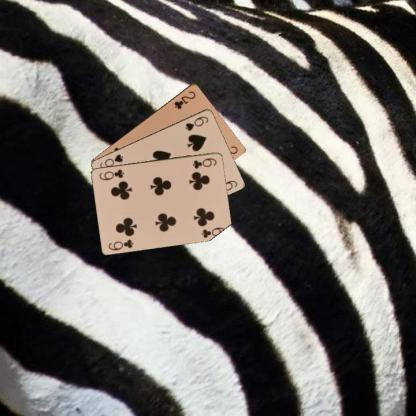2c: (172, 88, 197, 110)
6c: (106, 236, 134, 252), (190, 155, 218, 170)
6s: (182, 114, 210, 132)
